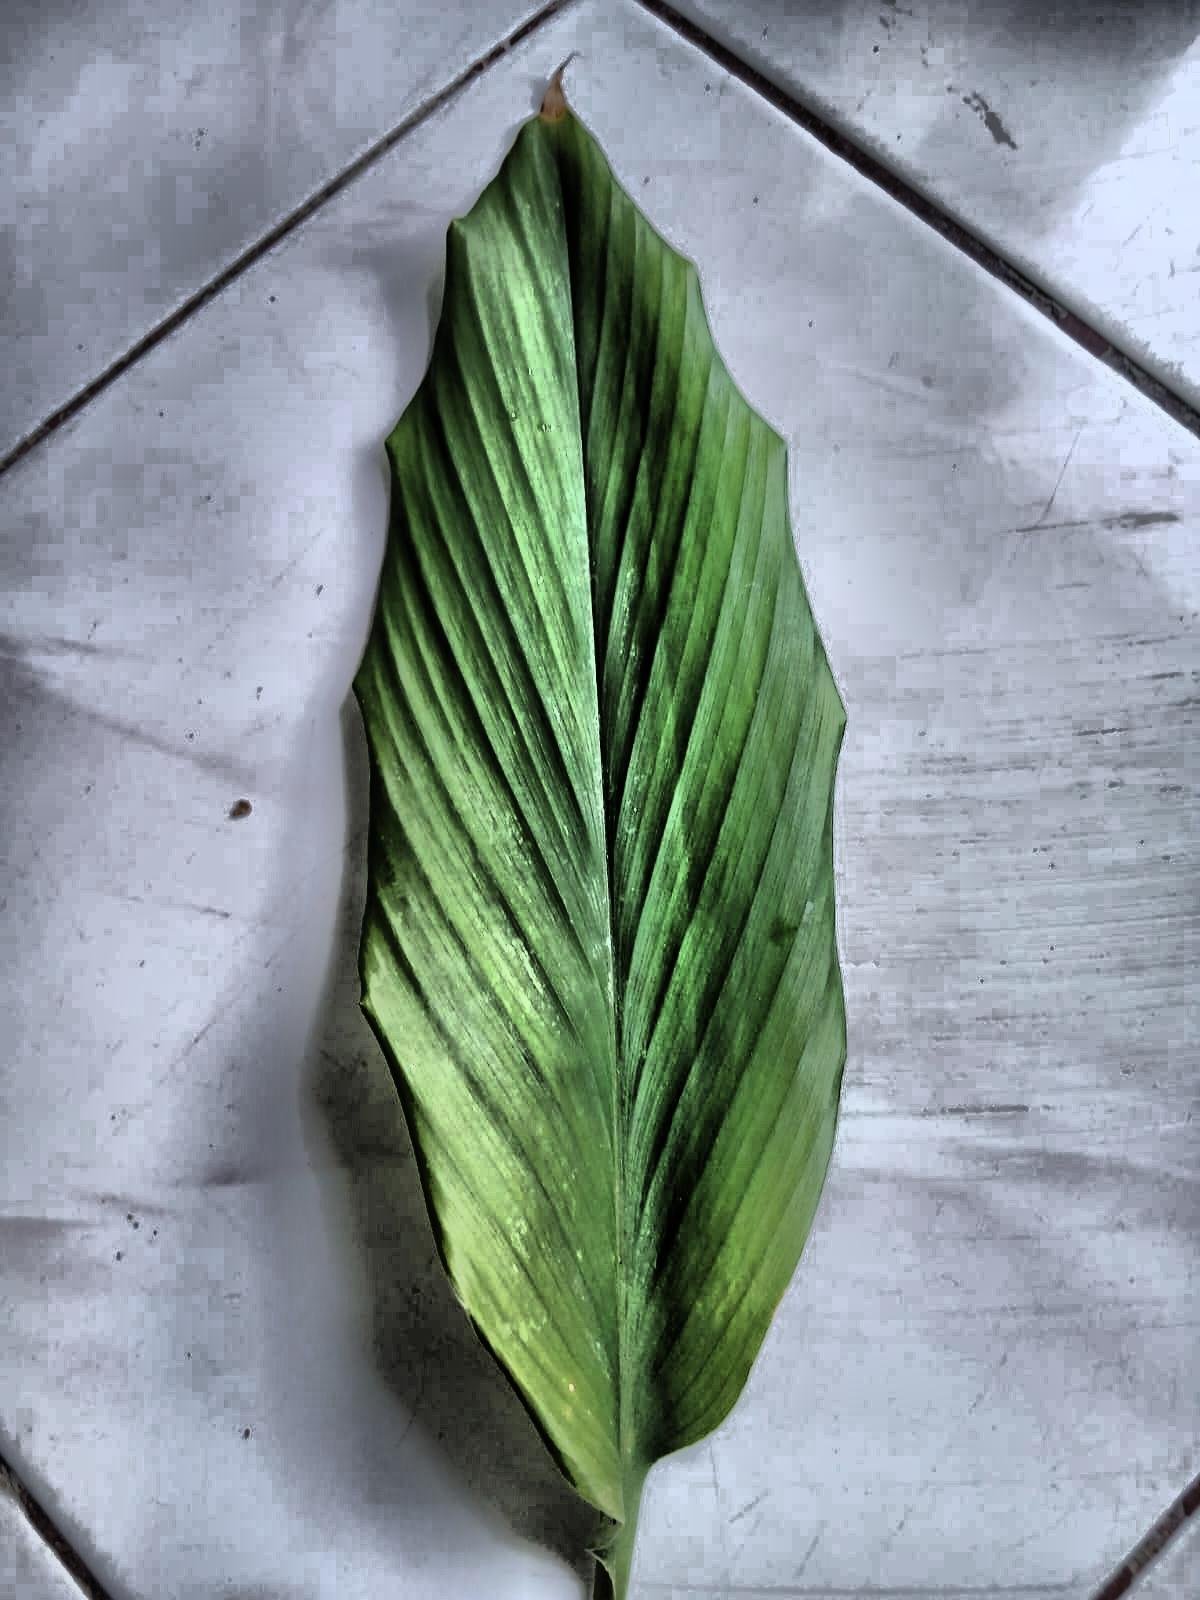daun kunyit: (355, 100, 846, 1599)
